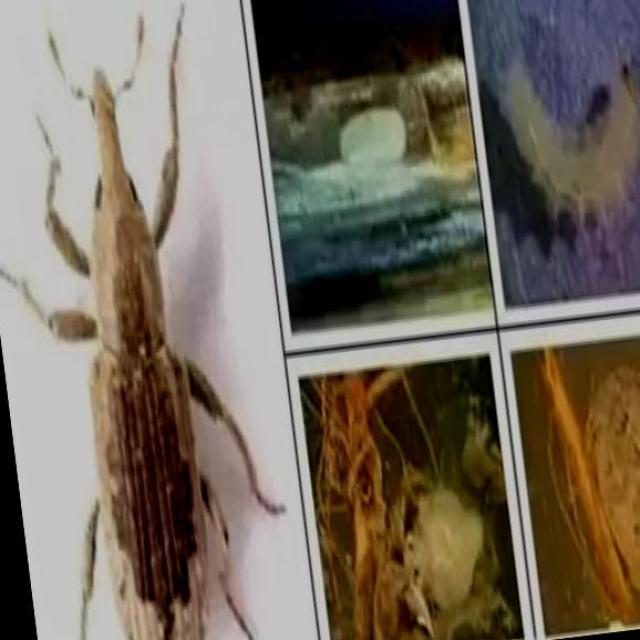ricebug: (0, 3, 285, 640), (500, 60, 640, 221), (412, 484, 483, 611)
